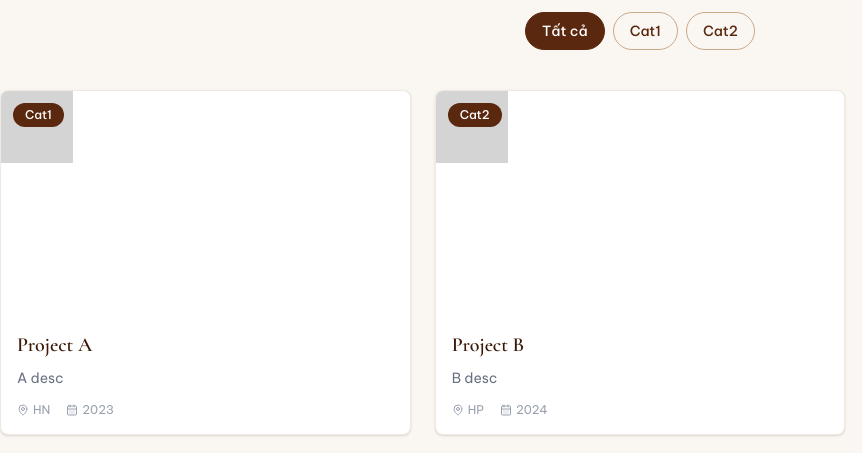
Test case: US-01: ProjectsListing with category filter › filters by category when clicked
Click the button "Cat1": coordinates (645, 31) [613,12,678,50]
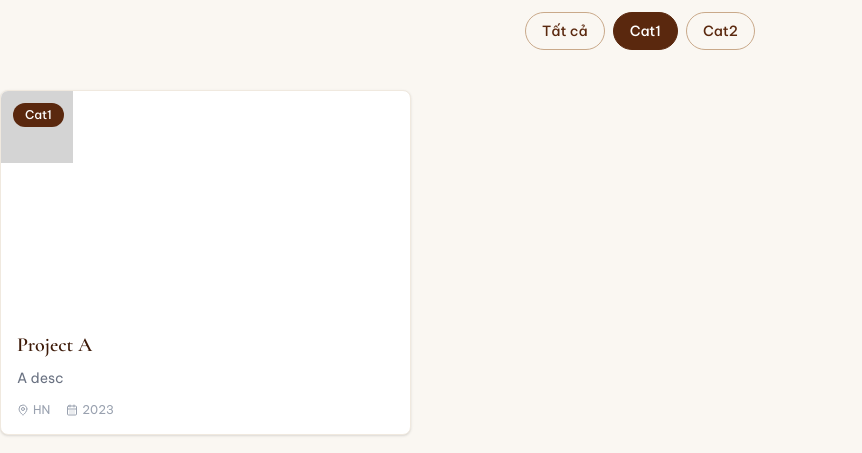
Check: the heading "Project A" is shown, box [17,333,92,357]
Check: the link "Project B" is gone
